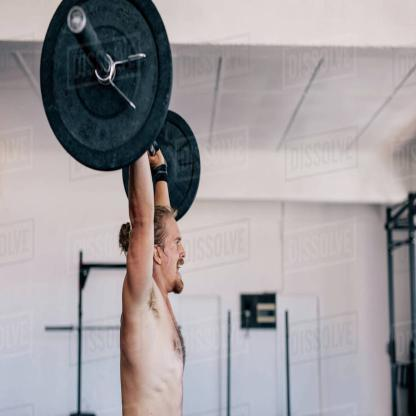Barbell: (67, 4, 87, 36)
